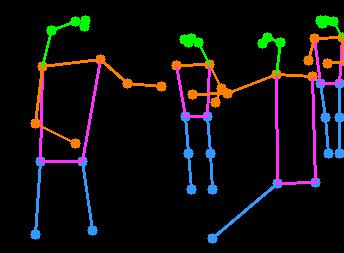normal: (17, 8, 169, 243), (161, 27, 234, 209)
